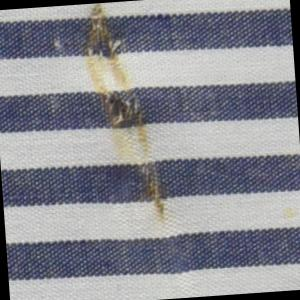Damage: (82, 1, 169, 228)
Oil Stain: (76, 1, 179, 232)
Stain: (279, 204, 300, 225)
